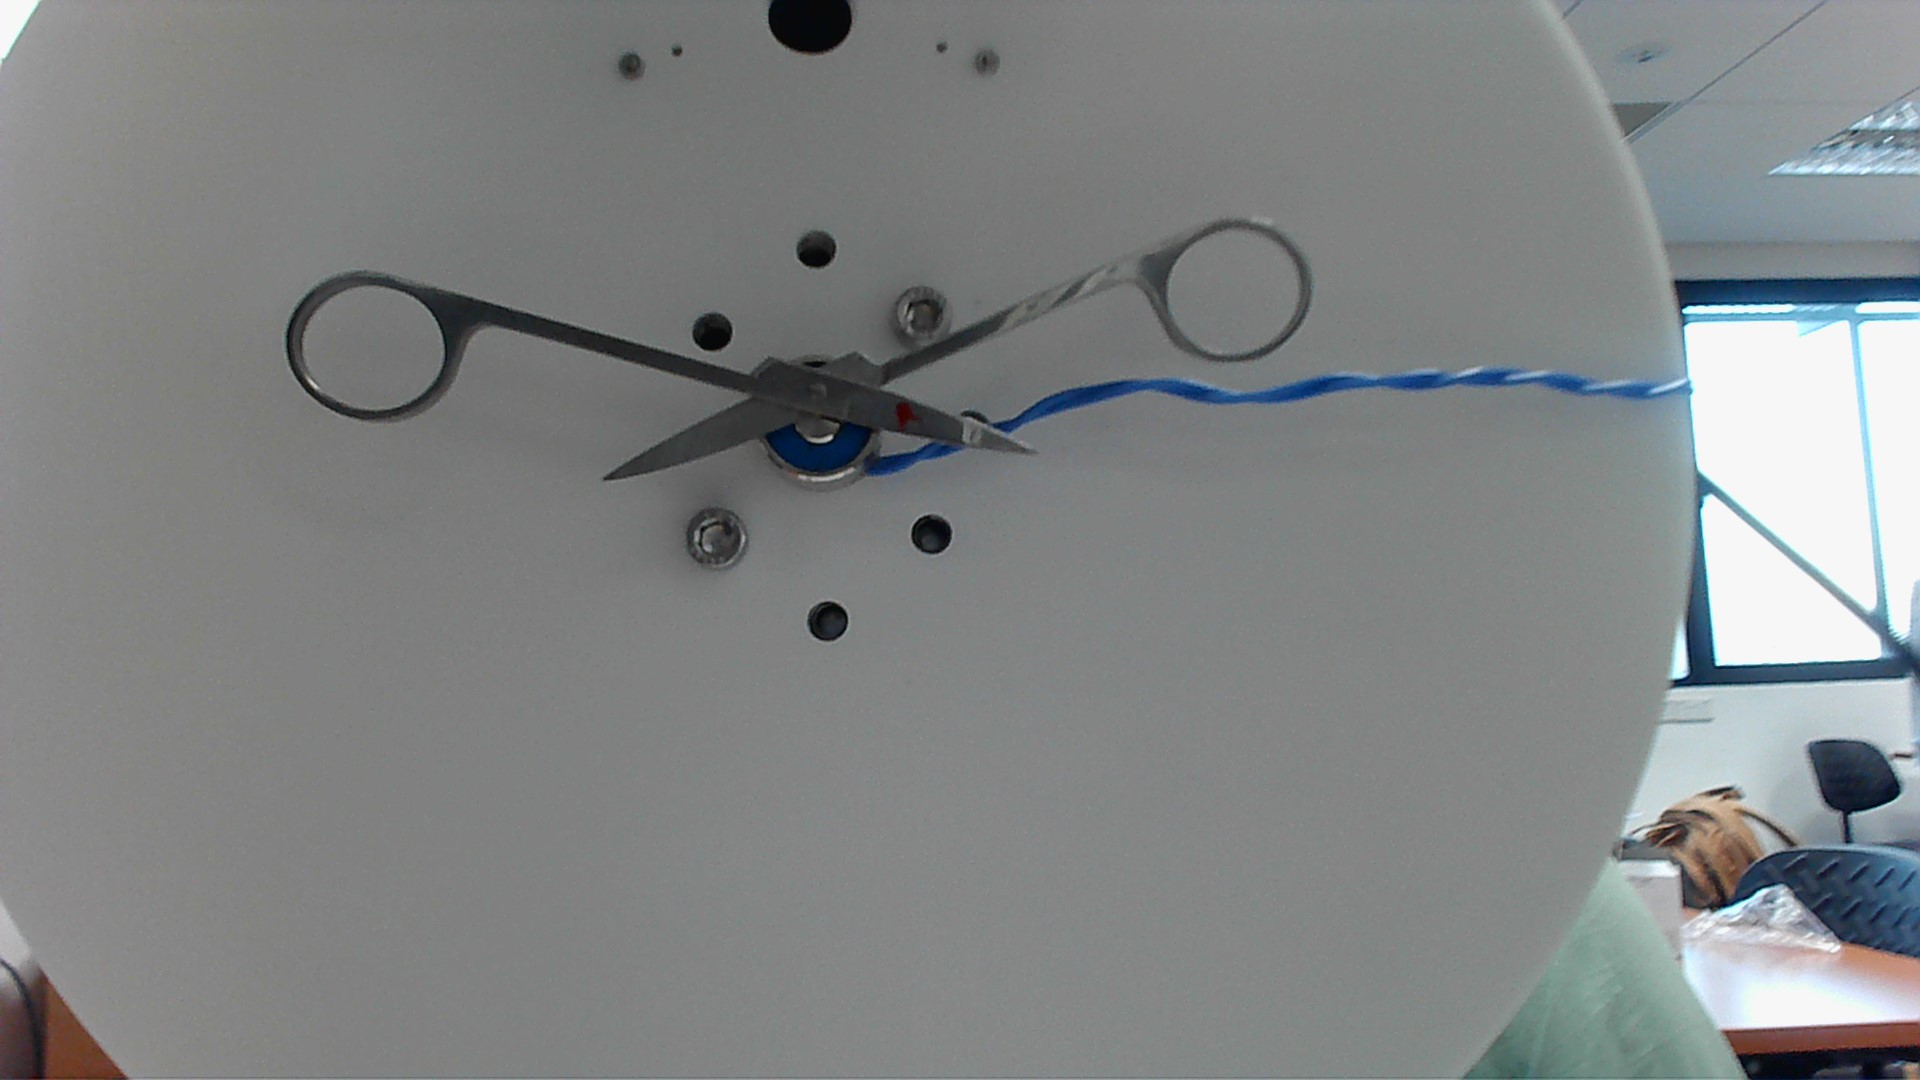Stain: (887, 392, 924, 435)
